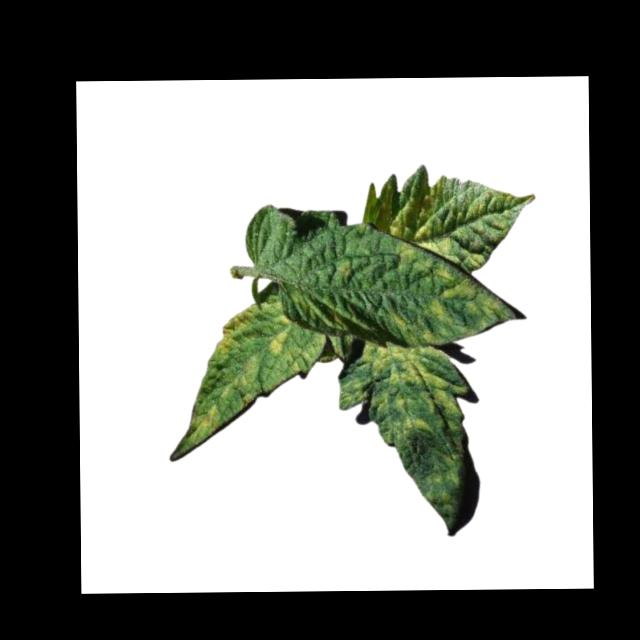Leaf_Mold: (364, 168, 532, 266), (338, 339, 473, 438), (391, 265, 525, 344), (187, 358, 272, 446), (212, 302, 264, 361), (269, 312, 300, 365)
